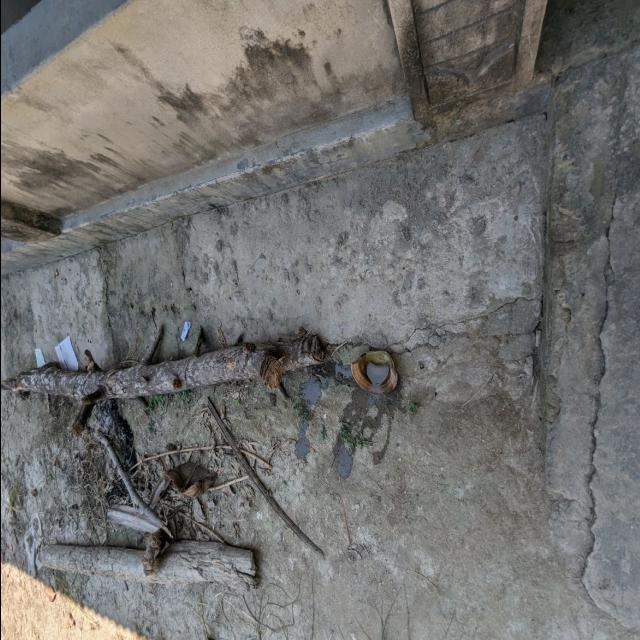Breeding Place: (72, 393, 206, 552), (284, 327, 414, 479), (344, 336, 409, 406)
